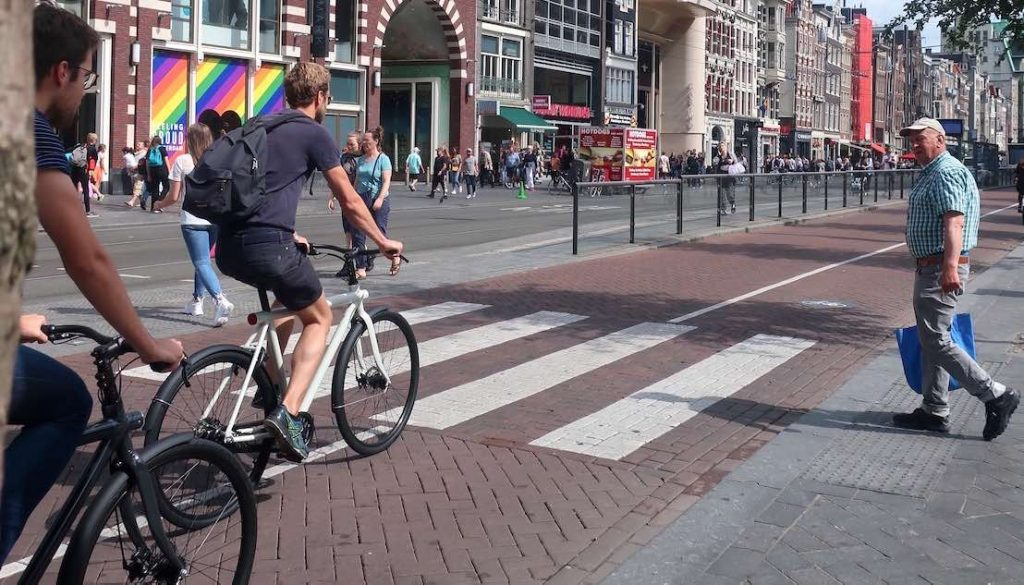commuter: (149, 65, 426, 472)
